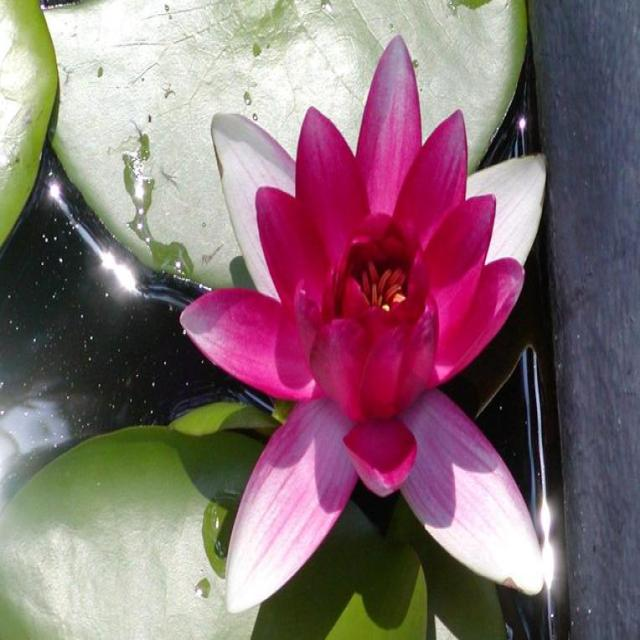rose: (149, 53, 596, 632)
